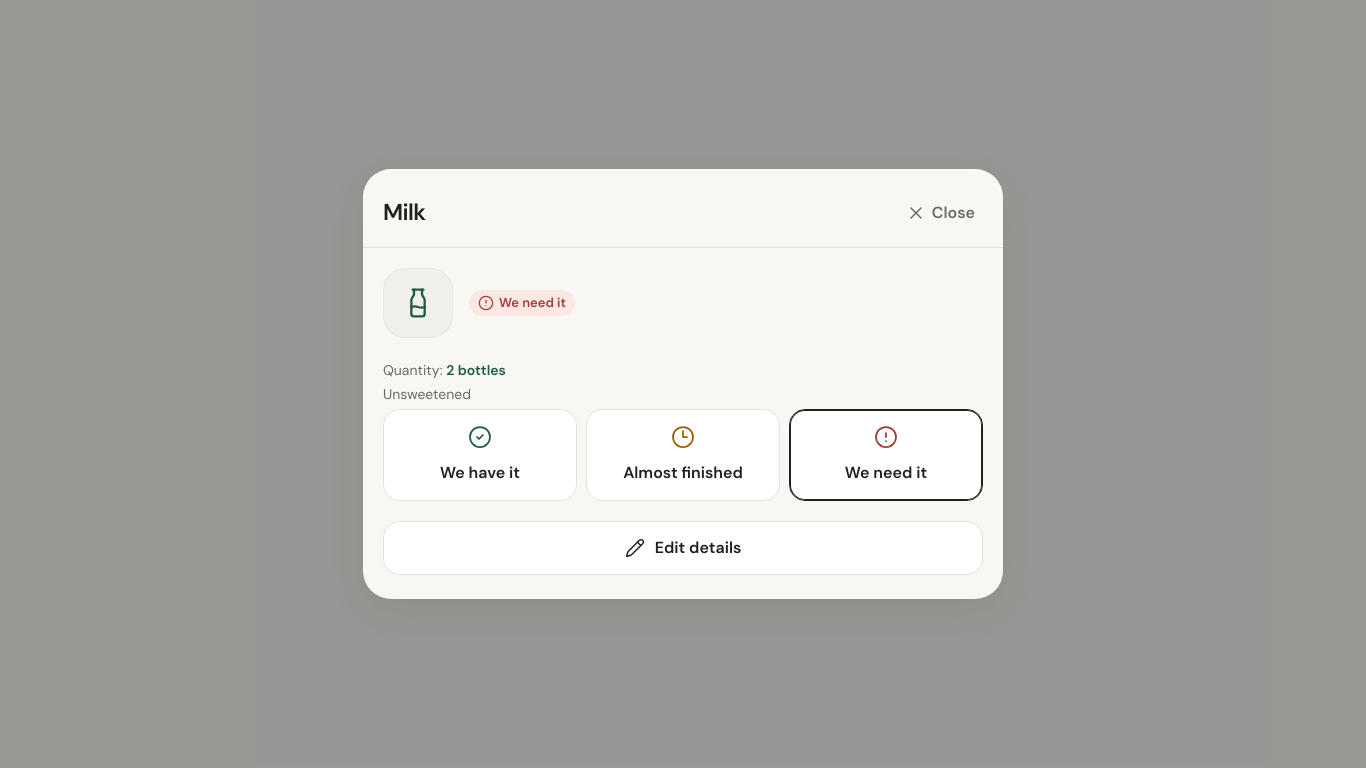
item detail editor › isolates editing from status controls, cancels without saving, and prefills saved values again
The image size is (1366, 768).
Step 1. Click the button "Edit details" → point(683, 548), box [383,521,983,575]
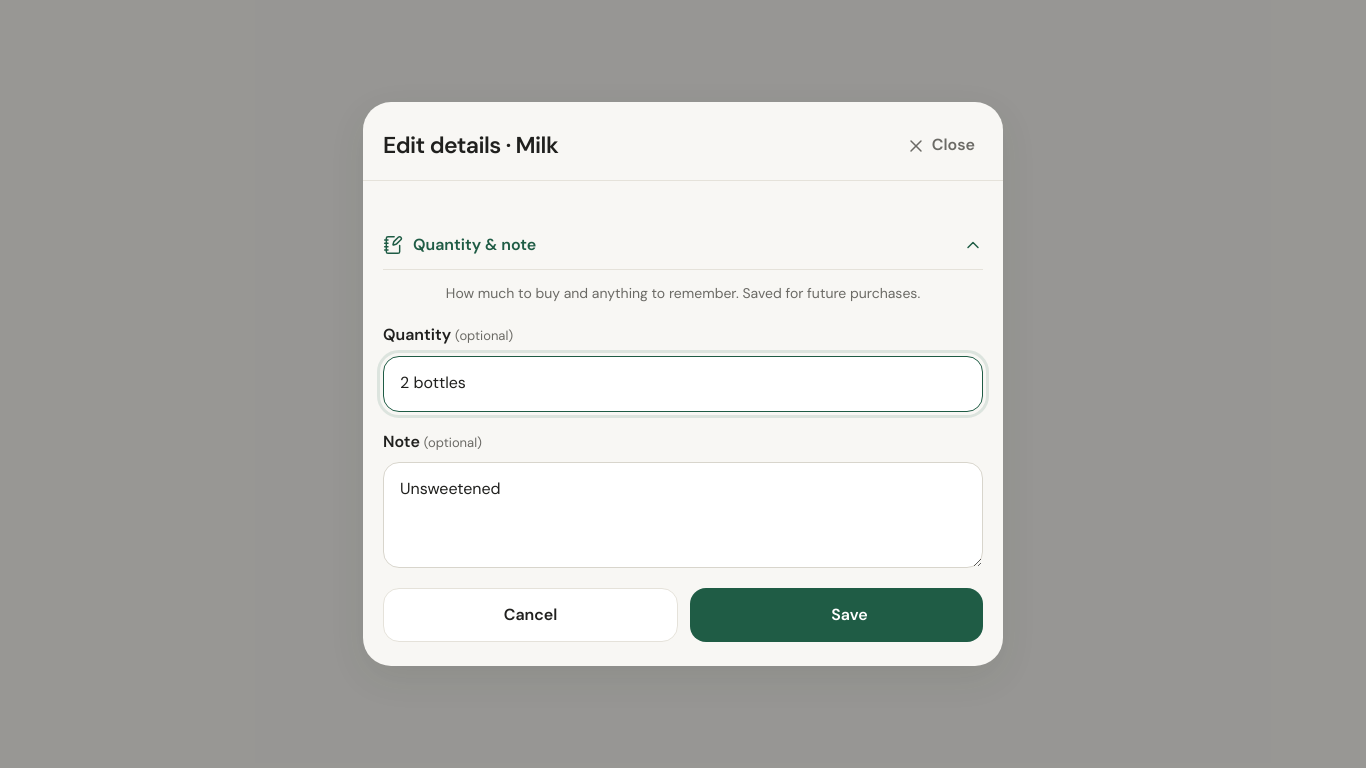
expect the field labelled "Quantity (optional)" holds "2 bottles": met
expect the text box labelled "Note (optional)" holds "Unsweetened": met, box [383,462,983,568]
expect the button "We have it" is gone: met
Step 2. Replace the text in the field labelled "Quantity (optional)" with "3 packs" → point(683, 384), box [383,356,983,412]
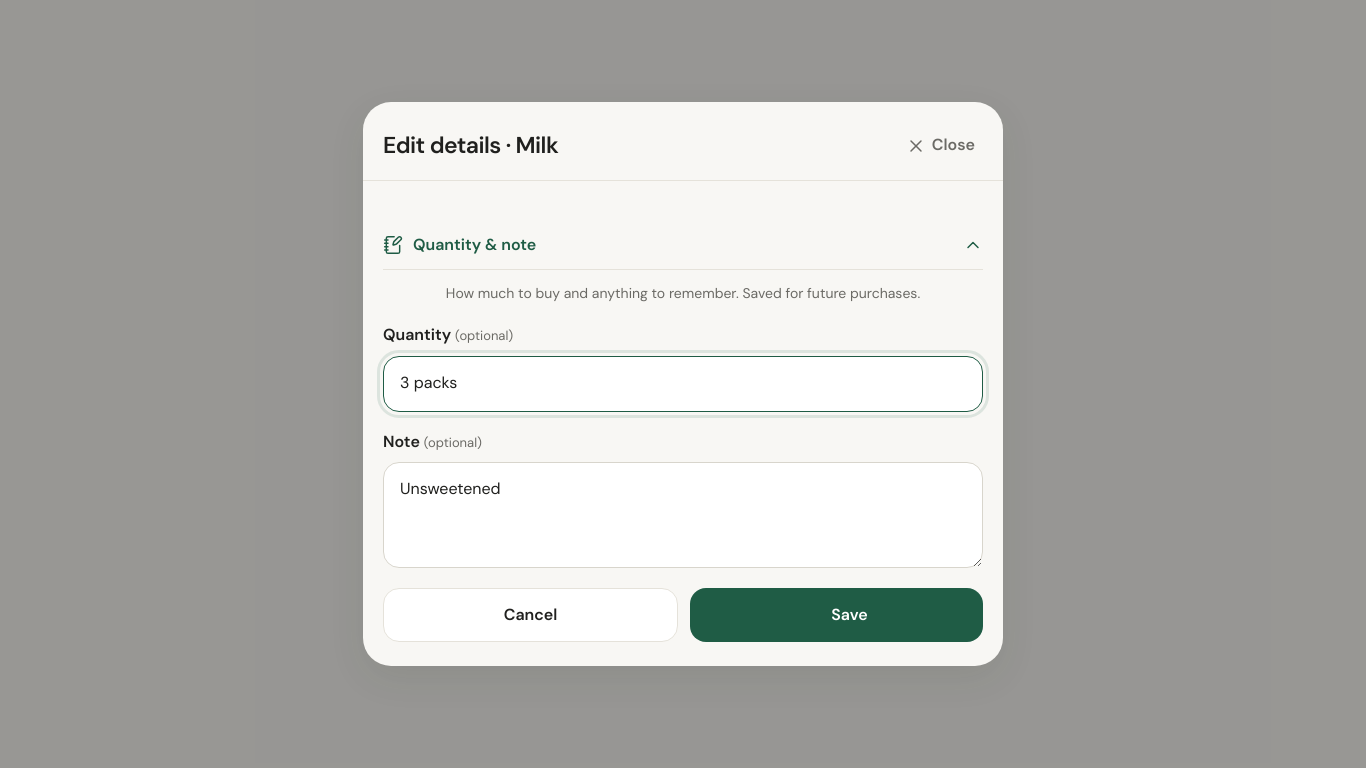
Step 3. Click the button "Cancel" → point(530, 615), box [383,588,678,642]
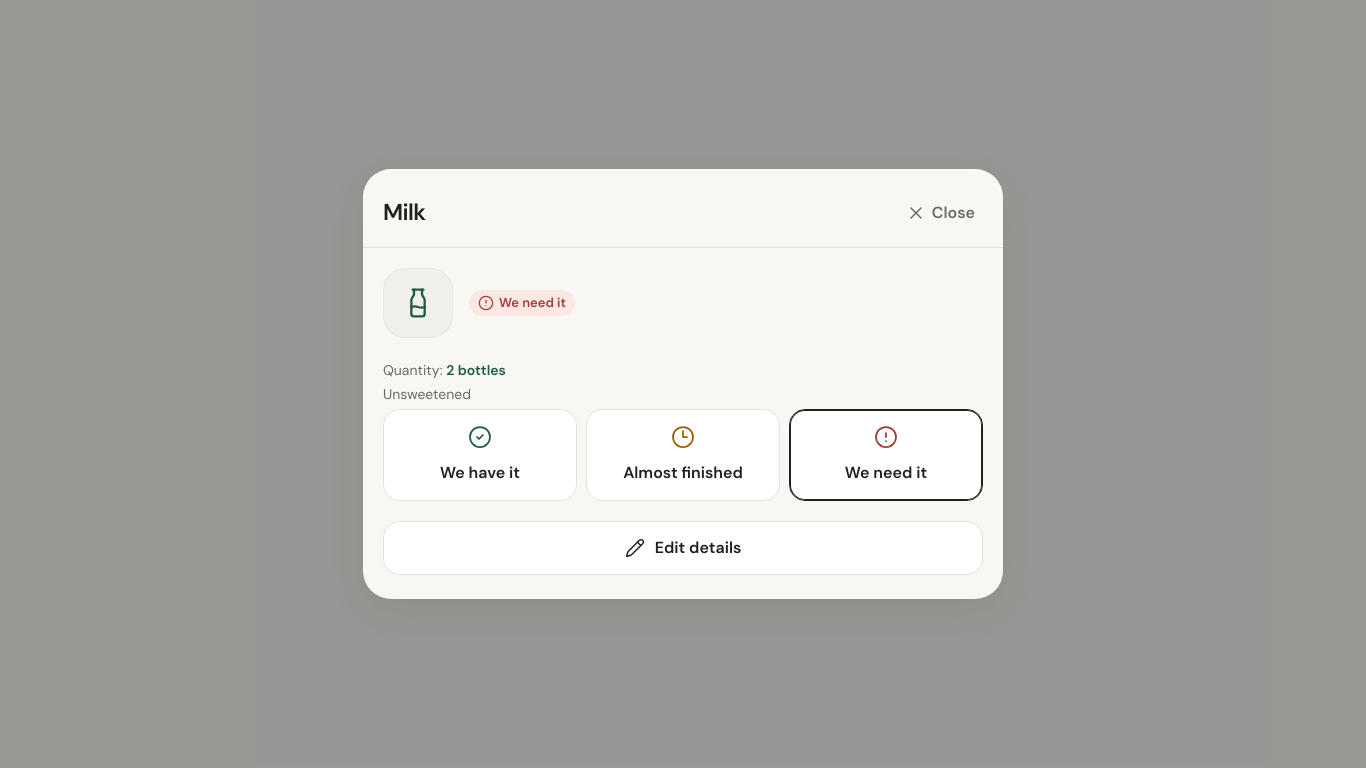
expect the button "We have it" is shown: met, box [383,409,577,501]
Step 4. Click the button "Edit details" → point(683, 548), box [383,521,983,575]
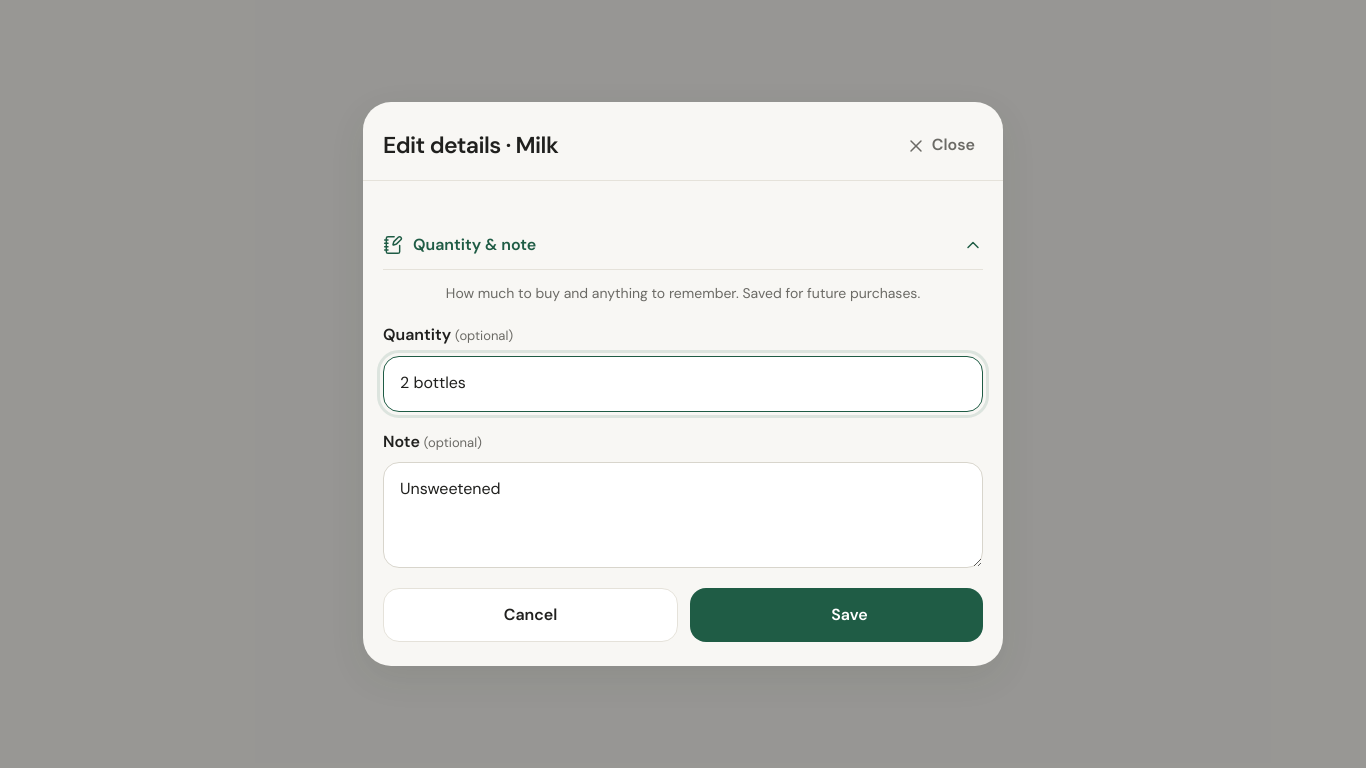
expect the field labelled "Quantity (optional)" holds "2 bottles": met, box [383,356,983,412]
